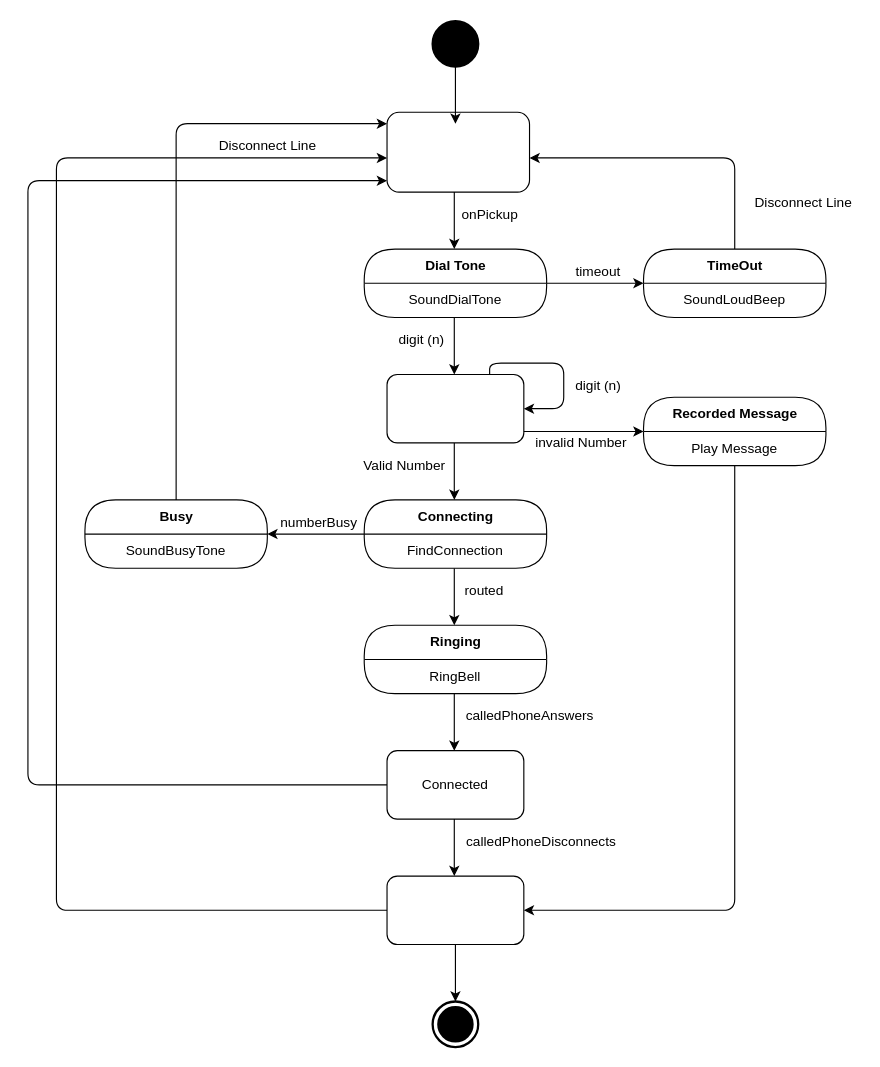
This 880x1067 diagram has some shape labels left out. Here are the shapes that lost their labels. From the top down, the centre of each, then its label:
pixel 458 151: Idle
pixel 455 408: Dialing
pixel 455 909: Disconnected
